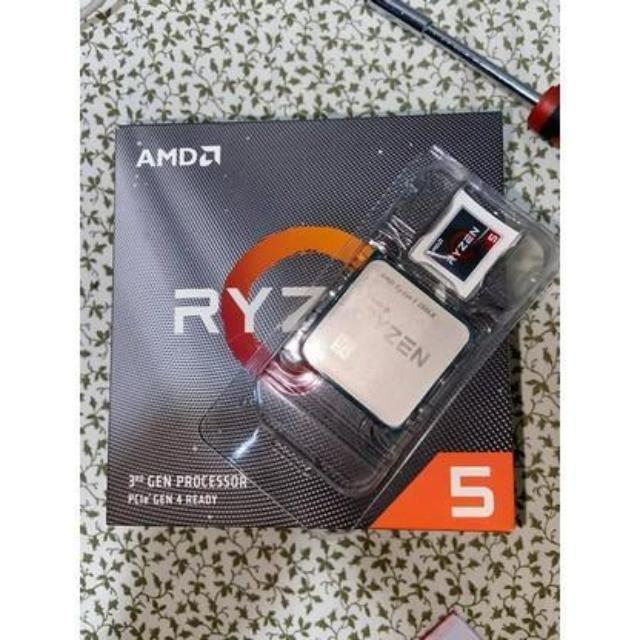CPU: (298, 258, 472, 432)
